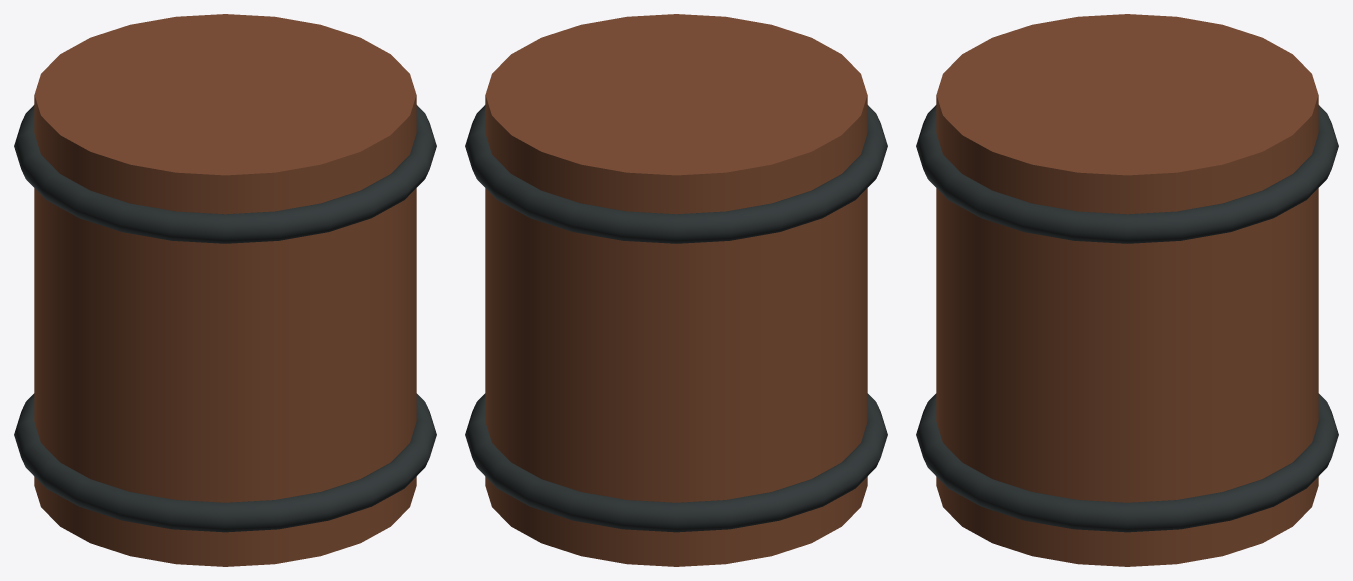
Rendered from barrel.glb.
3 renders of one model, left to right at view 1: azimuth 30°, elevation 25°; view 2: azimuth 150°, elevation 25°; view 3: azimuth 270°, elevation 25°, orthographic.
Size of the model in its own units: 0.93 by 0.95 by 0.93.
